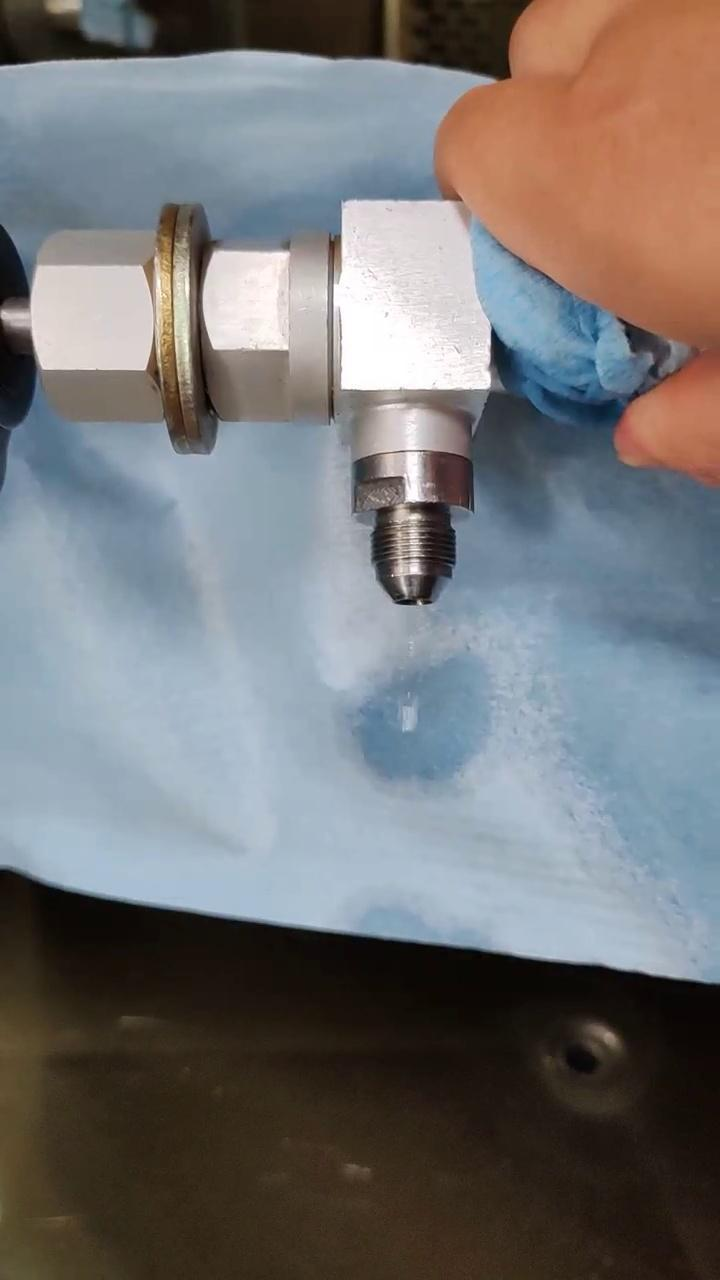water drop: (396, 702, 420, 733)
